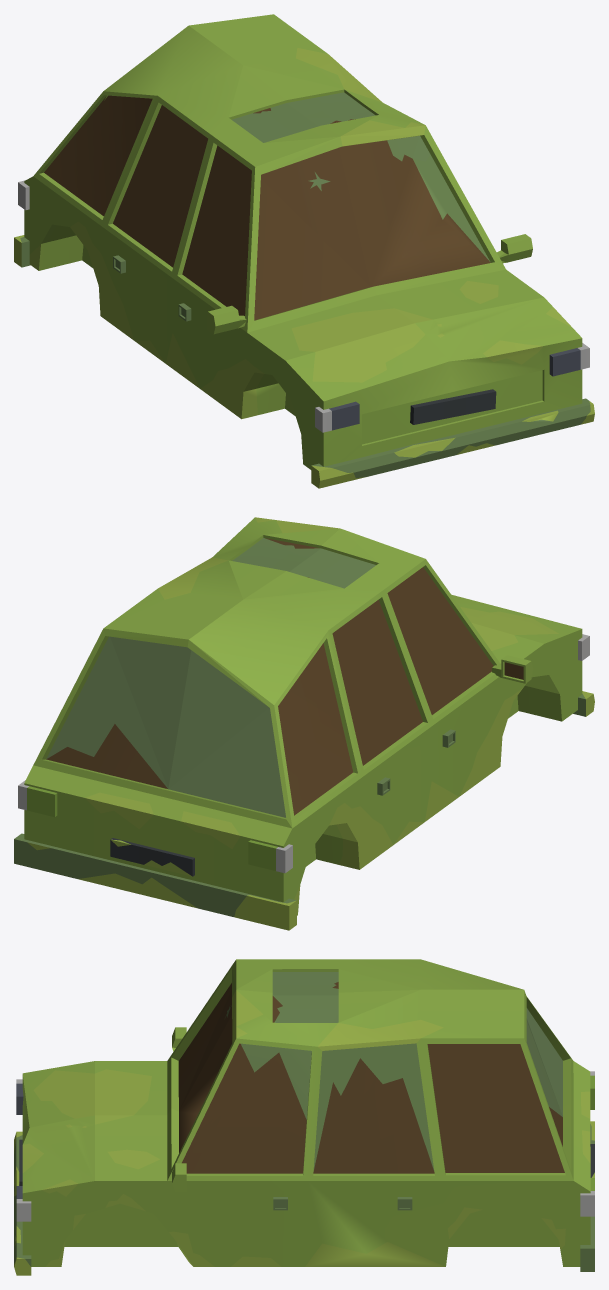
Rendered from OldCar_06.fbx.
3 renders of one model, top to bottom at view 1: azimuth 30°, elevation 25°; view 2: azimuth 150°, elevation 25°; view 3: azimuth 270°, elevation 25°, orthographic. The views are drawn at different scales.
Parts seen in each view (by area): view 1: OldCar_06; view 2: OldCar_06; view 3: OldCar_06.
Part boxes in pixels (<box>): OldCar_06: <box>14,14,594,488</box>; OldCar_06: <box>14,517,594,930</box>; OldCar_06: <box>14,959,594,1275</box>.
Bounding box in the file's own units: 1.98 × 1.39 × 3.3.
